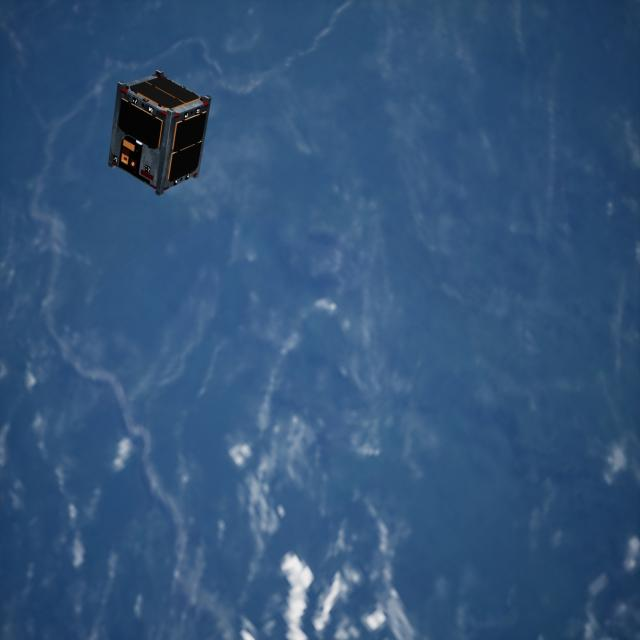medium_debris: (102, 67, 217, 197)
